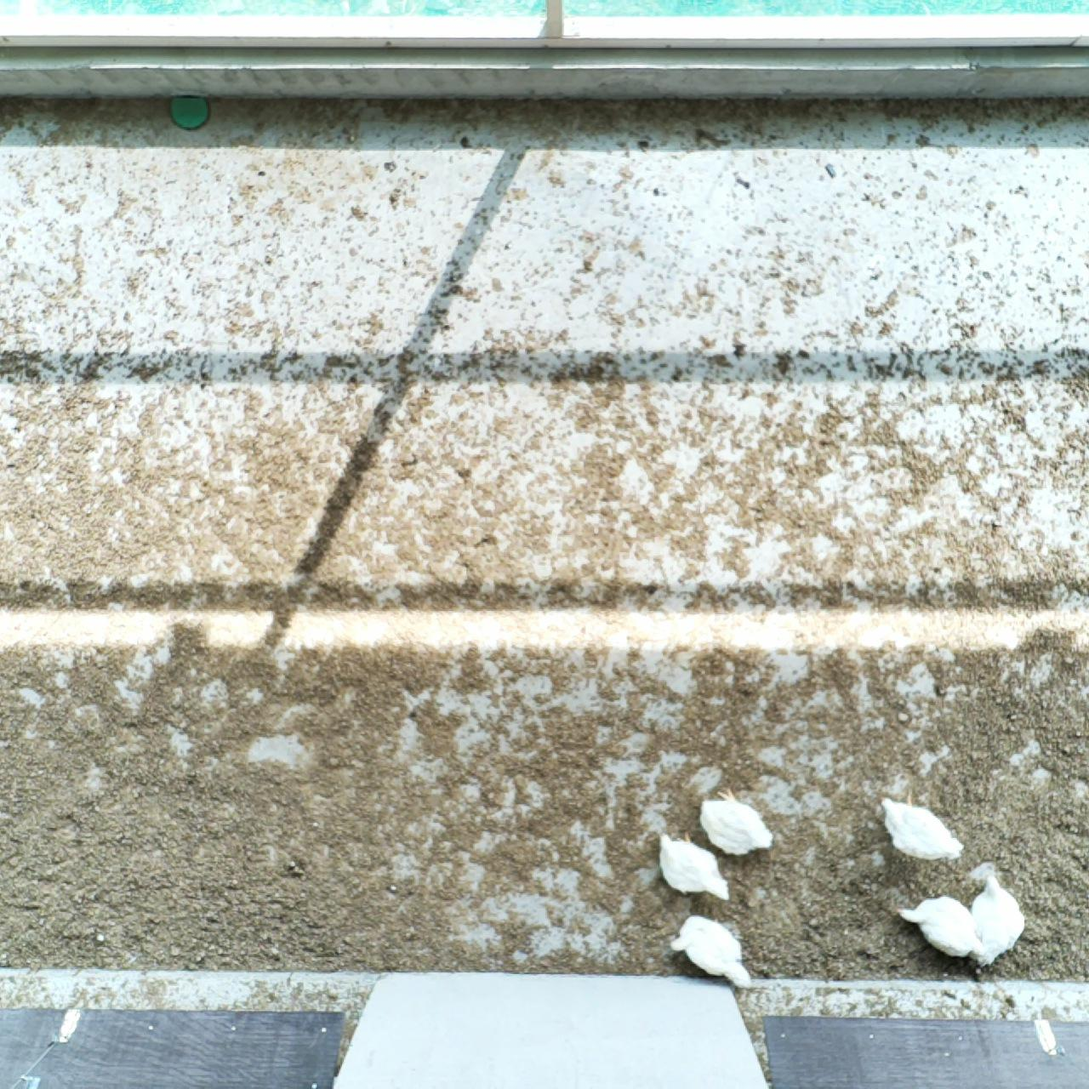chicken: (876, 788, 965, 866), (893, 892, 986, 963), (673, 913, 756, 989), (696, 785, 778, 858), (655, 828, 733, 903), (968, 873, 1029, 967)
